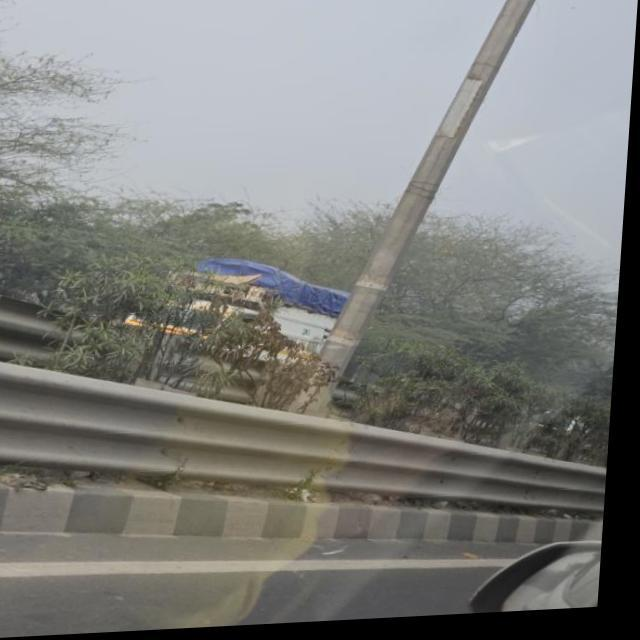covered: (118, 258, 396, 364)
